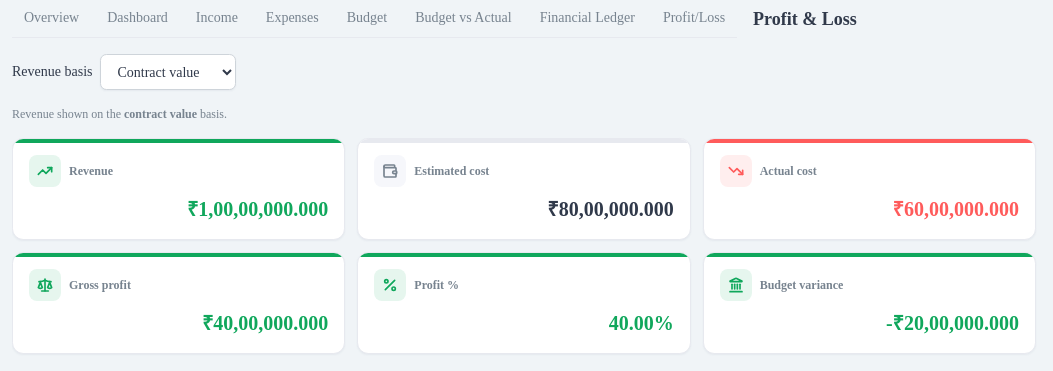
reporting pages › ProjectPnl_BasisToggle_RefetchesAndRelabels
expect the element with test id "basis-label" shows "contract value": met, box left=124, top=107, right=197, bottom=121
Step 1. Select "Receipts to date" in the dropdown labelled "Revenue basis" → (168, 72), box left=100, top=54, right=236, bottom=90
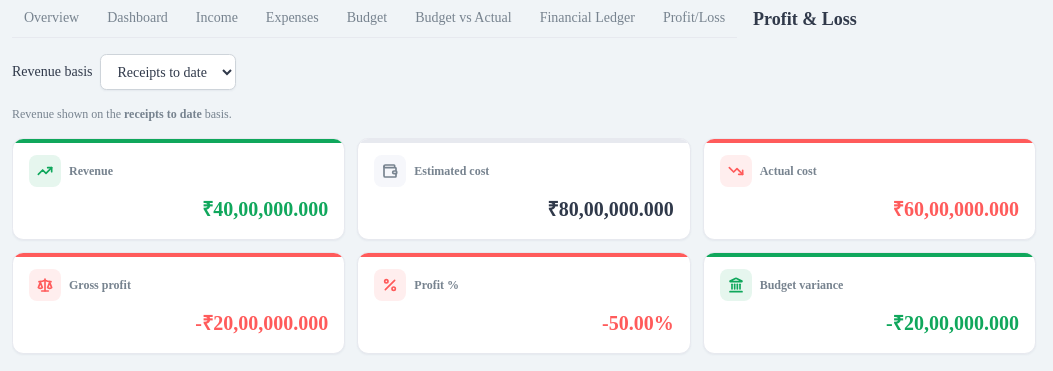
expect the element with test id "basis-label" shows "receipts to date": met, box left=124, top=107, right=202, bottom=121
